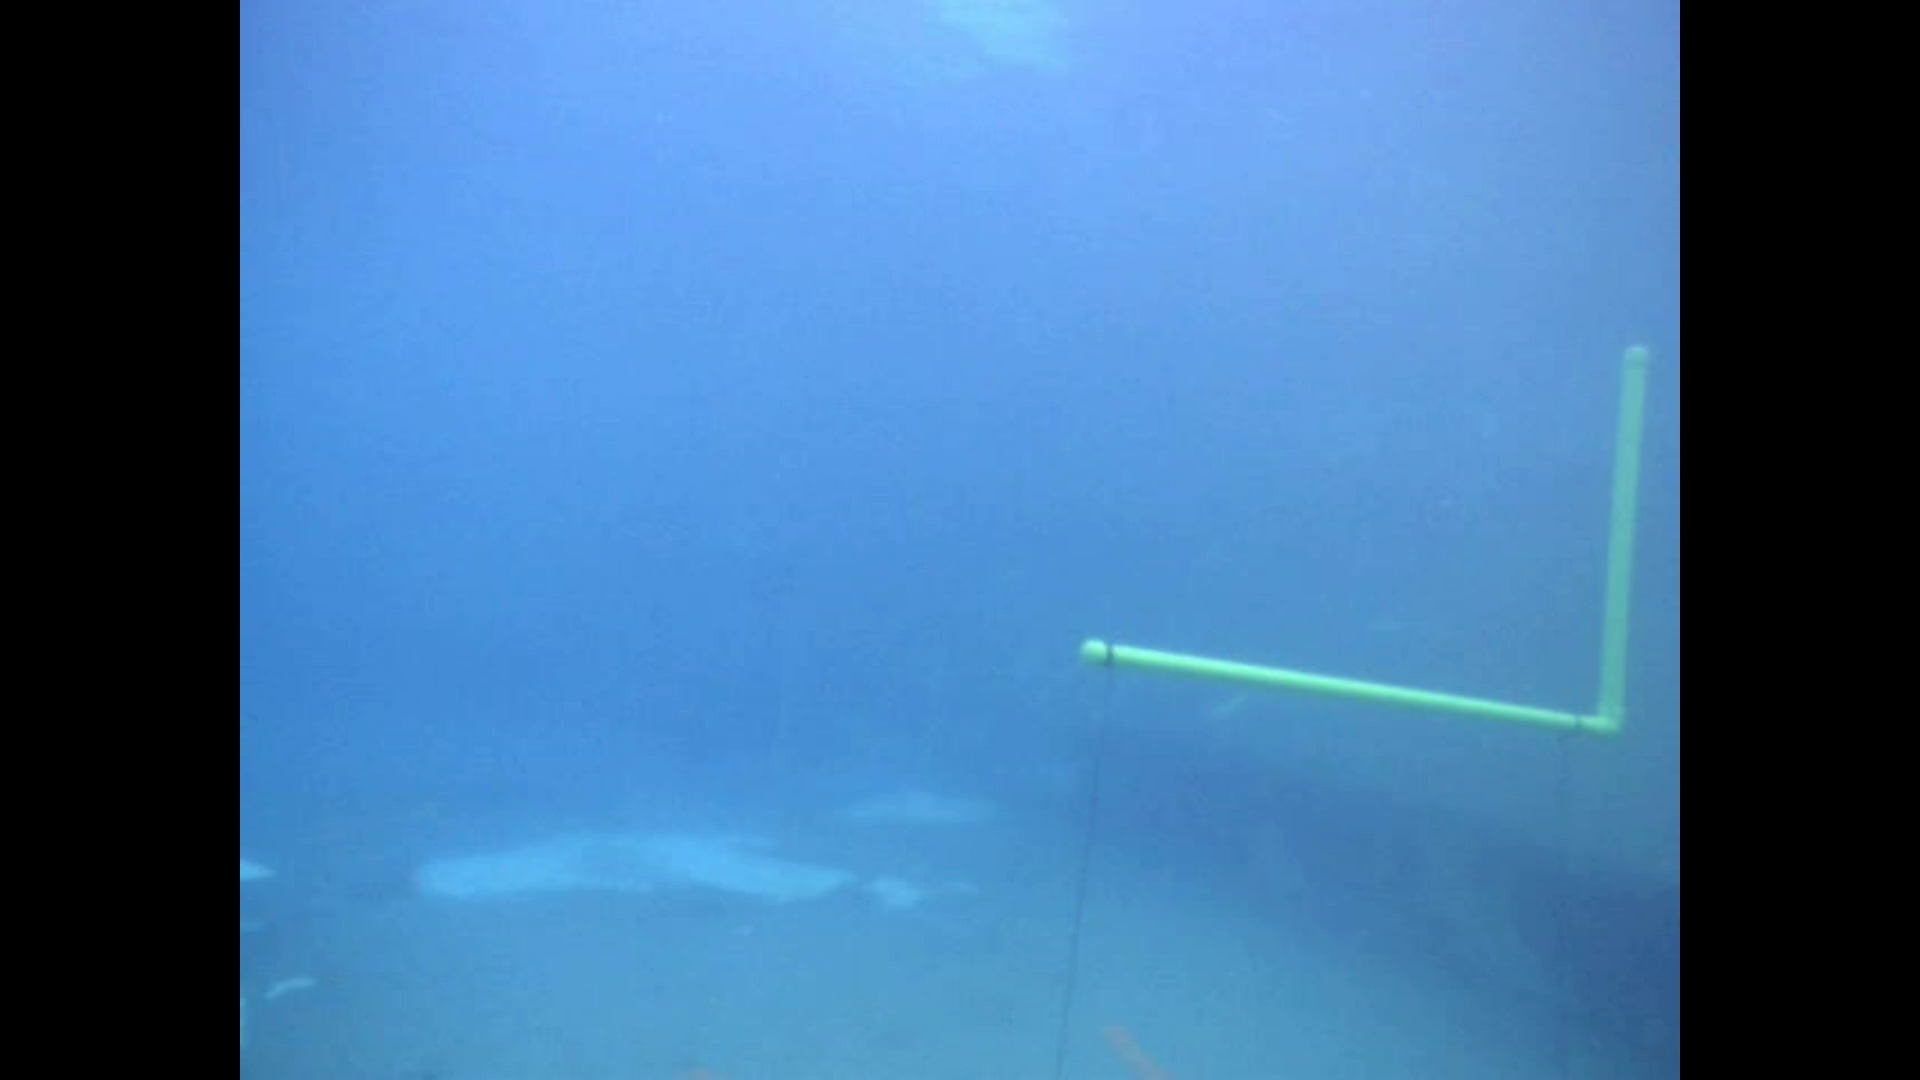gate: (1077, 340, 1654, 737)
